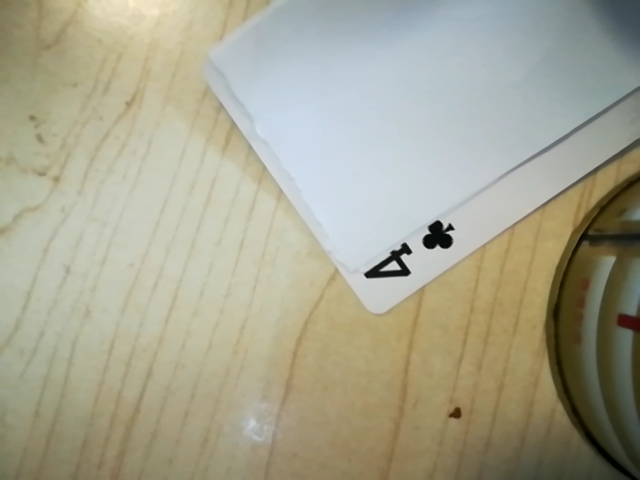mh 4: (356, 213, 473, 288)
